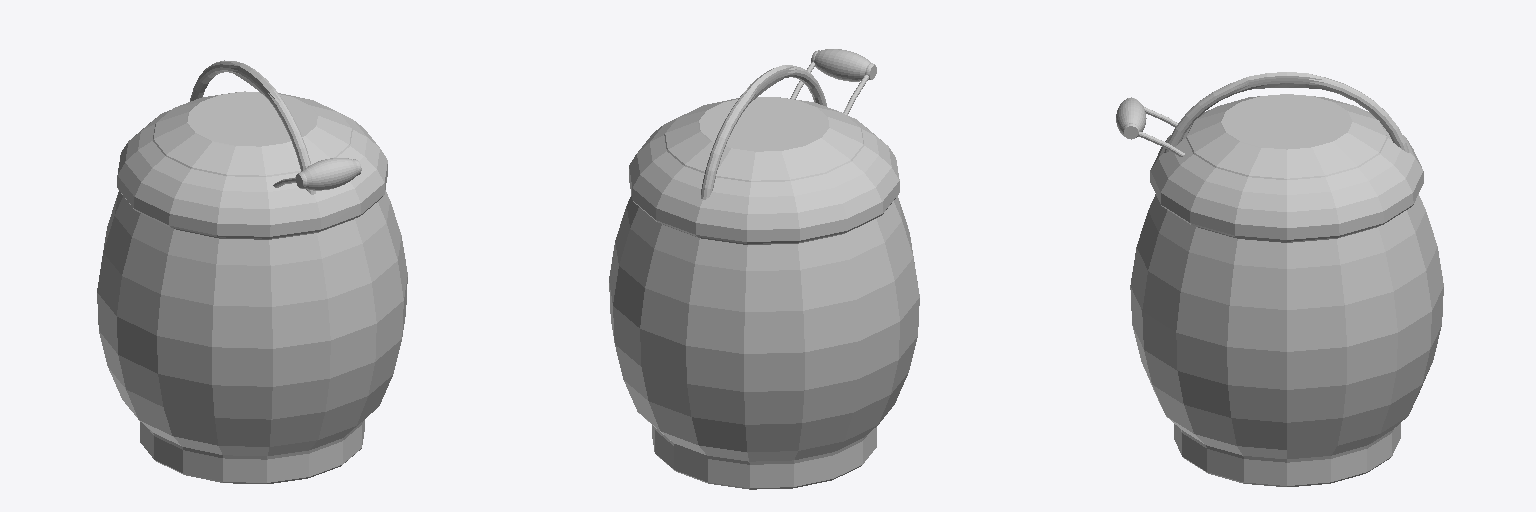
File: Set_A_Container_Style_02.obj
The picture shows the model from 3 angles: view 1: azimuth 30°, elevation 25°; view 2: azimuth 150°, elevation 25°; view 3: azimuth 270°, elevation 25°; orthographic projection.
Visible parts, largest first — view 1: Set_A_Container_Style_02; view 2: Set_A_Container_Style_02; view 3: Set_A_Container_Style_02.
Boxes of the visible parts, x1,y1,x2,y2 form: Set_A_Container_Style_02: [97, 60, 407, 483]; Set_A_Container_Style_02: [609, 49, 919, 489]; Set_A_Container_Style_02: [1116, 72, 1443, 486].
Bounding box in the file's own units: 0.3063 × 0.397 × 0.3203.